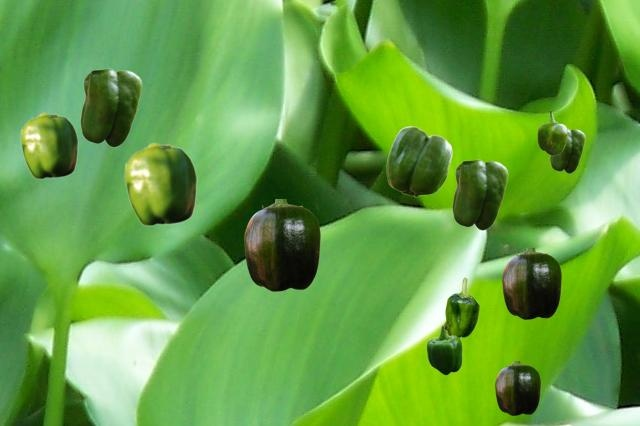bell_pepper: (244, 199, 319, 290), (124, 142, 196, 225), (80, 68, 141, 146), (386, 126, 451, 196), (502, 248, 560, 318), (452, 159, 507, 229), (20, 112, 77, 178), (495, 361, 539, 414), (443, 277, 478, 338), (426, 325, 461, 374), (550, 128, 584, 172), (537, 110, 566, 154)
